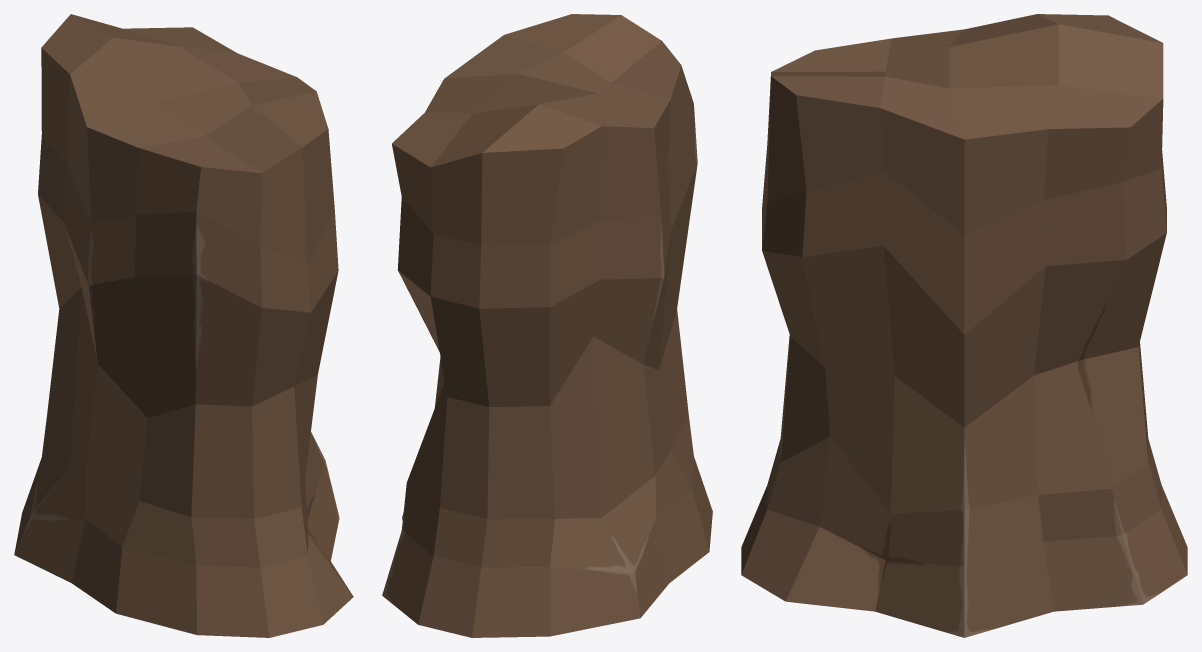
The model's file is WallMedium01.fbx.
The picture shows the model from 3 angles, left to right: view 1: azimuth 30°, elevation 25°; view 2: azimuth 150°, elevation 25°; view 3: azimuth 270°, elevation 25°; orthographic projection. The views are drawn at different scales.
Parts seen in each view (by area): view 1: pCube1; view 2: pCube1; view 3: pCube1.
Boxes of the visible parts, bbox=[...] form: pCube1: bbox=[14, 14, 353, 637]; pCube1: bbox=[382, 14, 712, 637]; pCube1: bbox=[741, 14, 1187, 637].
Size of the model in its own units: 3.27 by 5.45 by 4.24.
